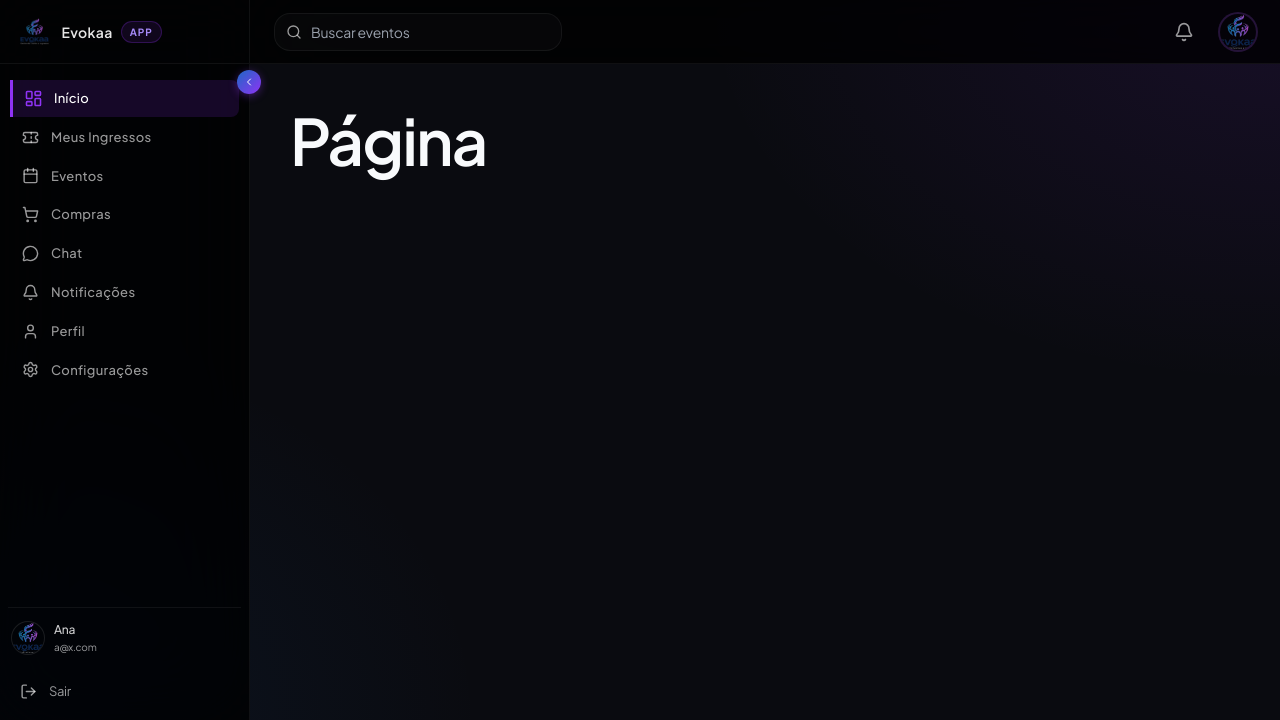
Scenario: Menu do app (AppLayout) › a busca do topo está ligada: enviar leva ao Explorar com o termo
In the search field labelled "Buscar eventos": {"x": 418, "y": 32} [274,12,562,50], type "forró"
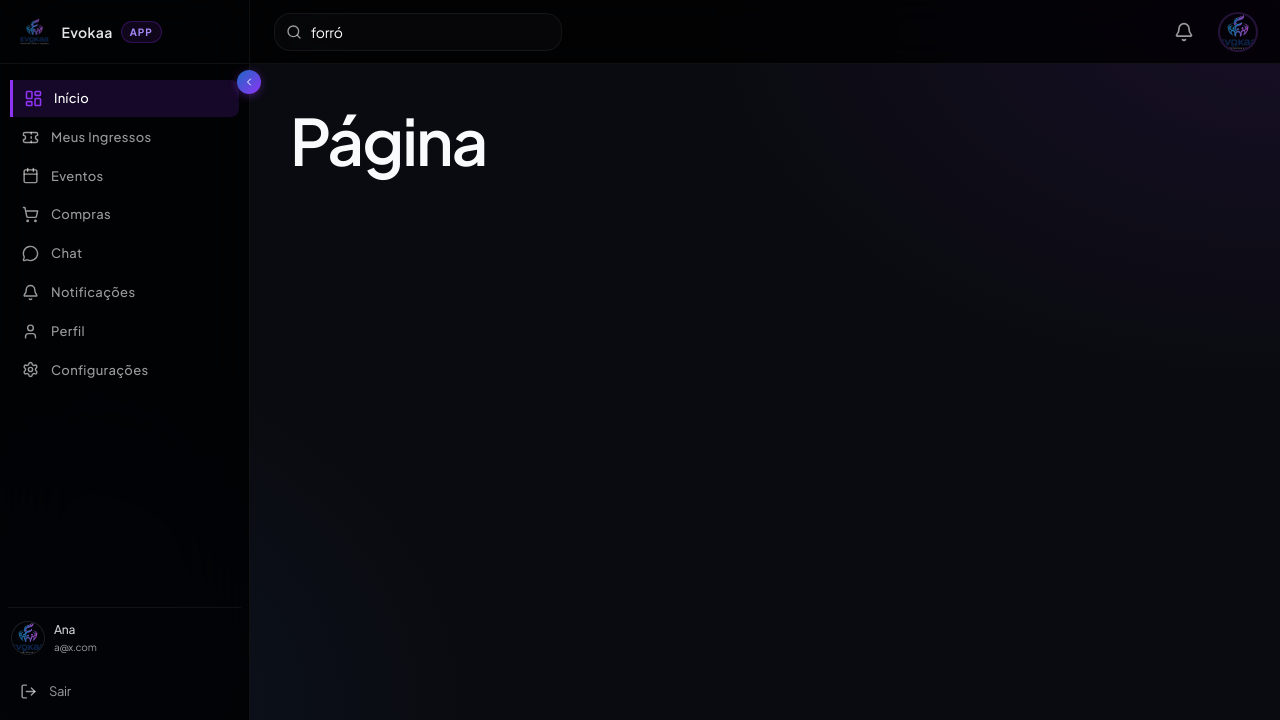
Submit the form named "Buscar eventos", box [274,12,562,50]
(page scrolled)
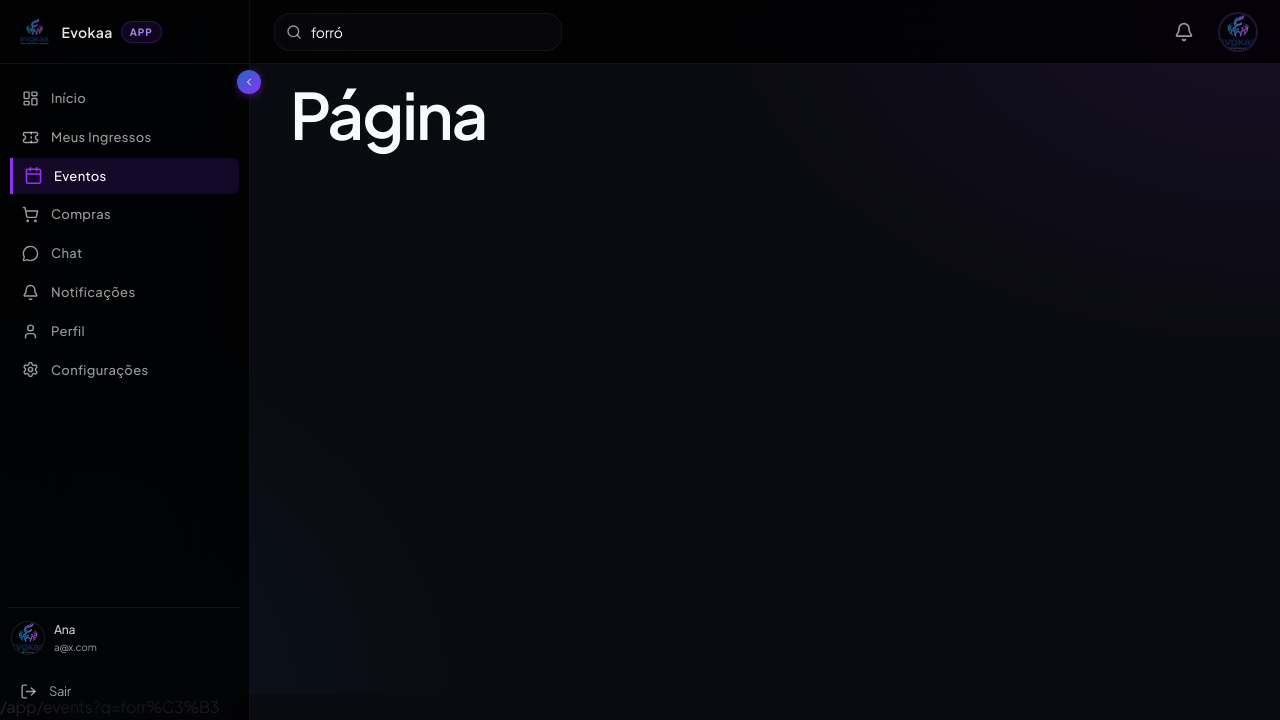
expect the text with test id "local" reads "/app/events?q=forr%C3%B3": met, box [0,696,219,717]
